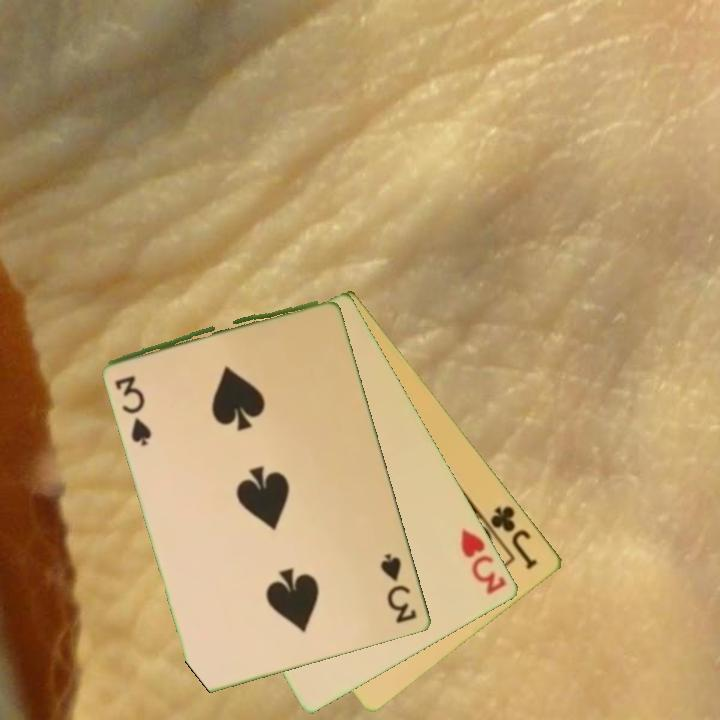3h: (457, 525, 510, 598)
3s: (377, 550, 420, 627), (112, 372, 155, 446)
Jc: (487, 502, 541, 573)
